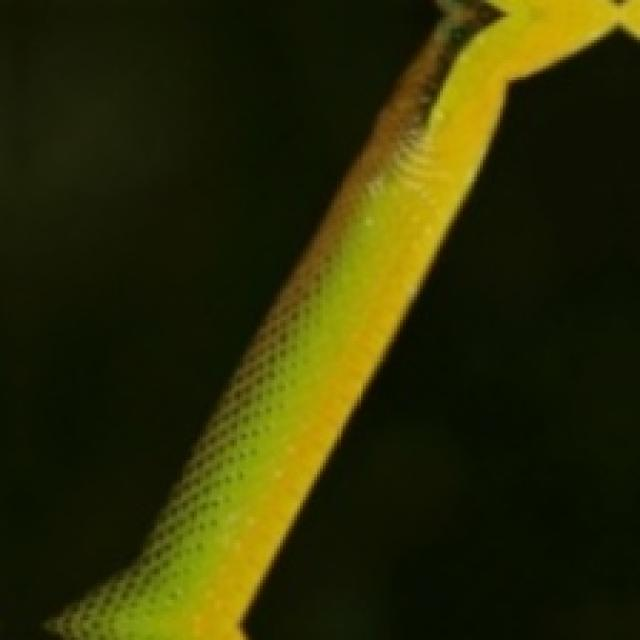red-tailed green ratsnake: (49, 0, 637, 637)
